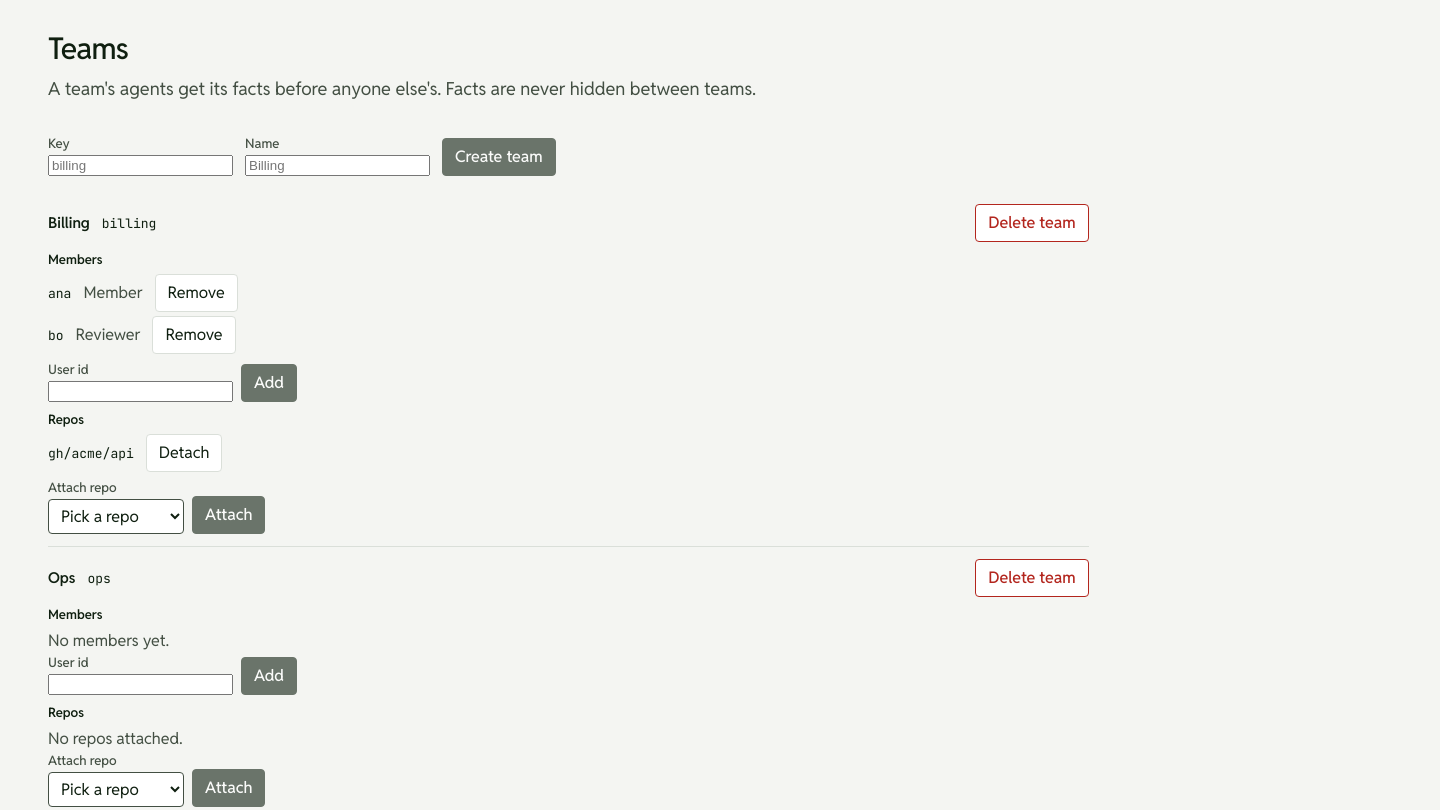
Scenario: teams page › attaches a repo from those not attached yet, and detaches one, with the key encoded
The width and height of the screenshot is (1440, 810).
Expected: the heading "Billing" is shown, [48,212,90,234]
Select "gh/acme/web" in the dropdown labelled "Attach repo" below "gh/acme/api" at {"x": 116, "y": 516}, box [48,499,184,534]
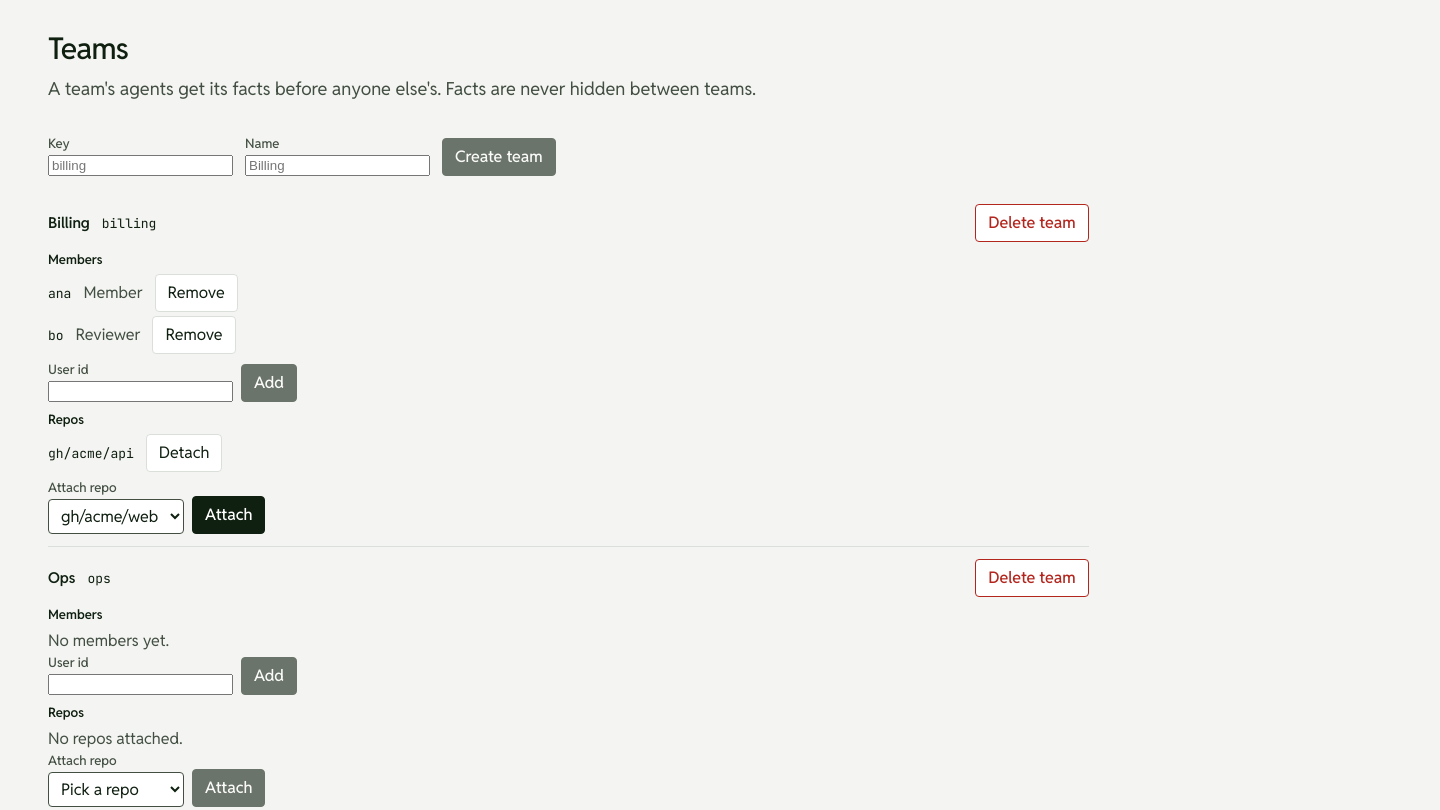
Click the button "Attach" below "gh/acme/api" at {"x": 229, "y": 515}, box [192,496,265,534]
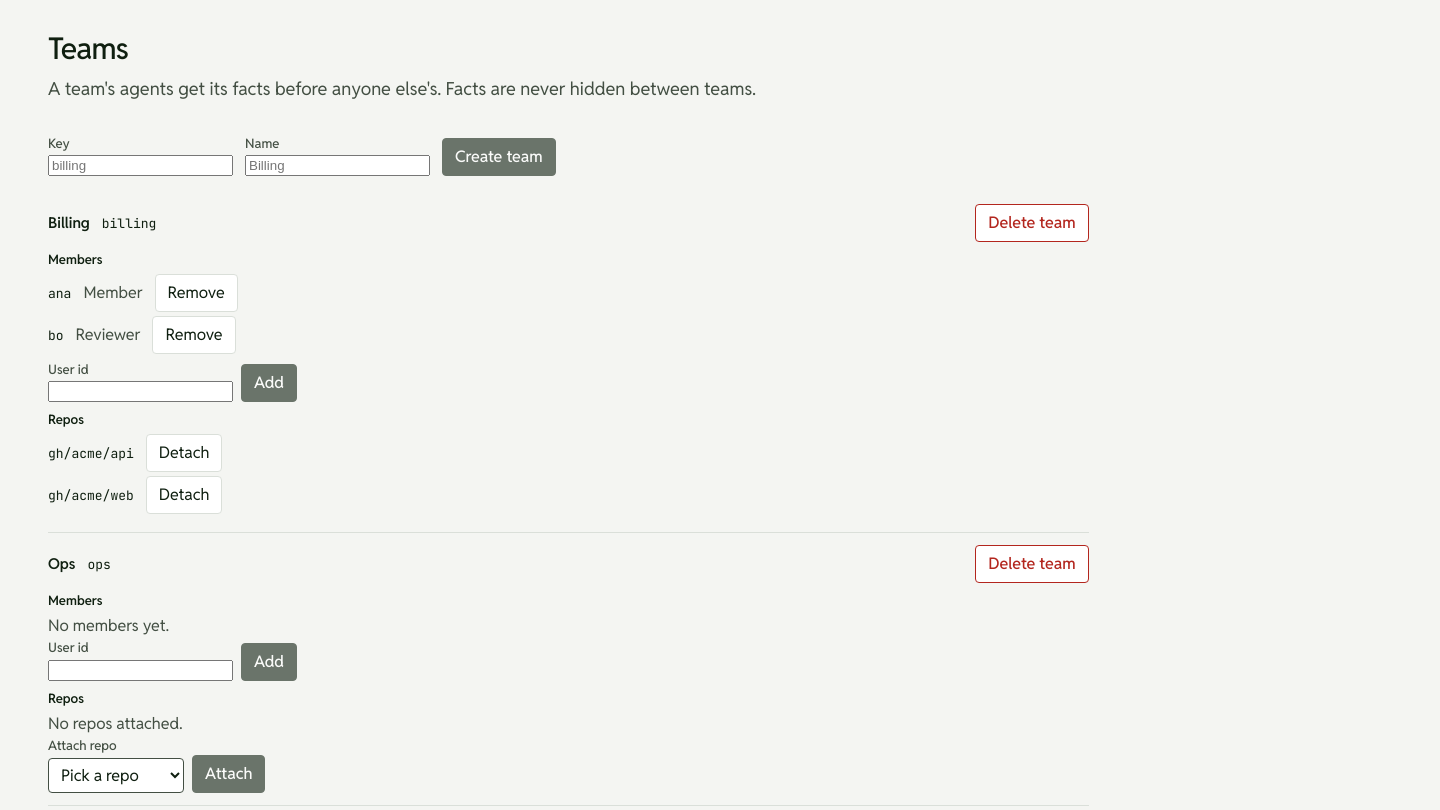
Expected: the button with aria-label "Detach gh/acme/web" is shown, [146,476,222,514]
Click the button with aria-label "Detach gh/acme/api" at {"x": 184, "y": 452}, box [146,434,222,472]
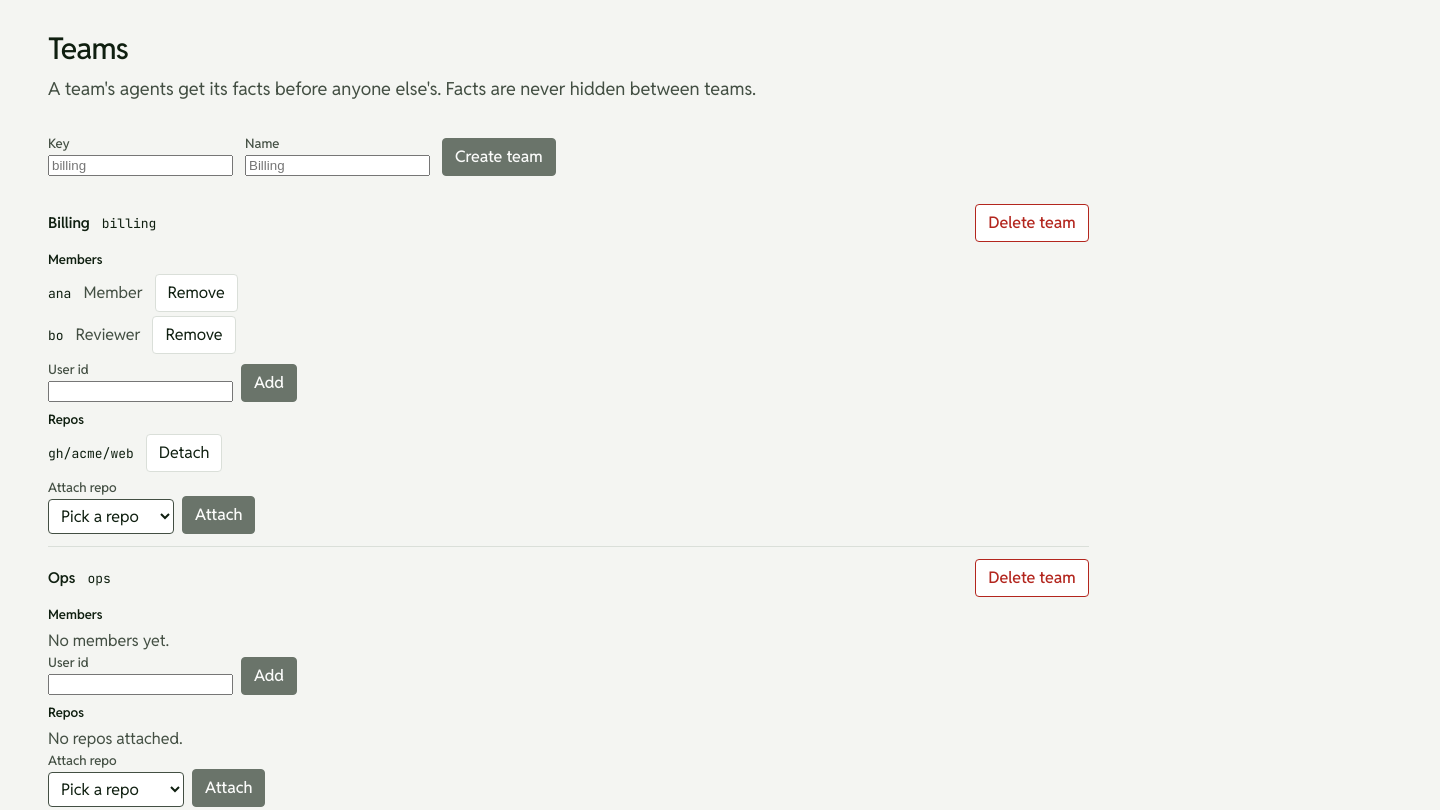
Expected: the text "gh/acme/api" is gone
